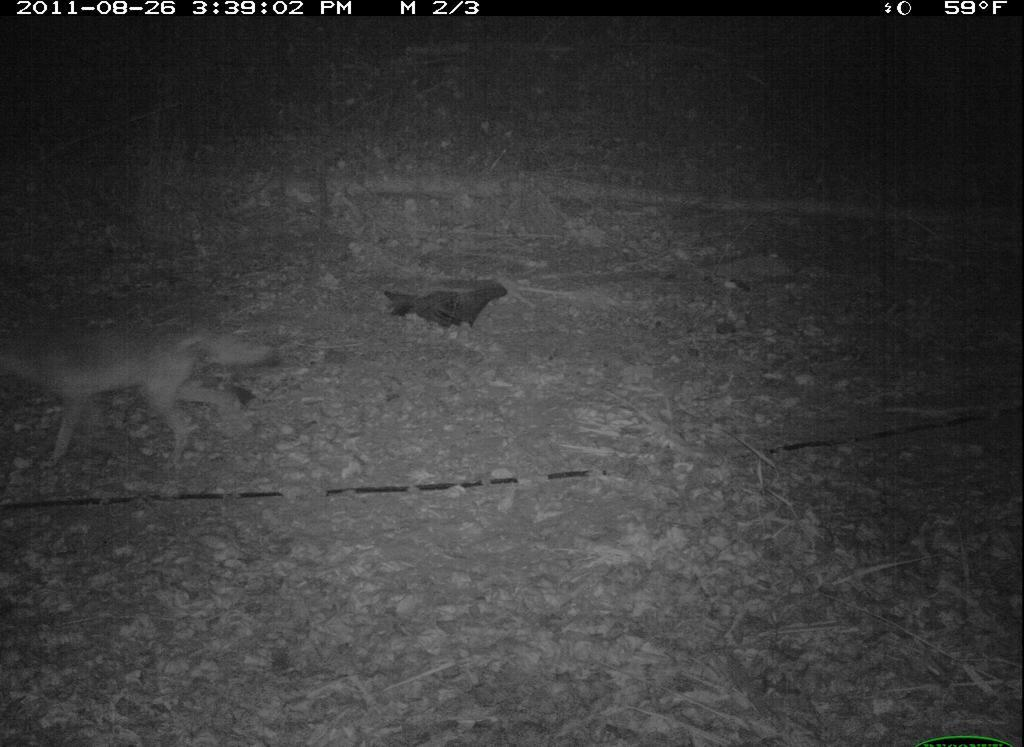coyote: (1, 304, 280, 499)
